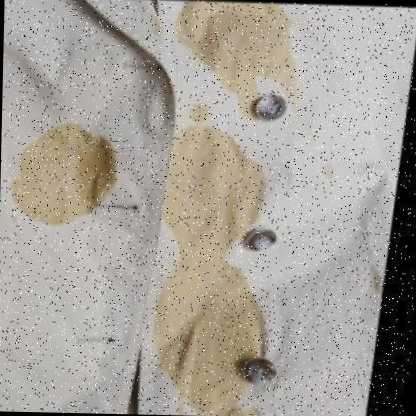coffee: (162, 134, 242, 251), (181, 2, 297, 78), (166, 266, 259, 355), (15, 134, 111, 220)
